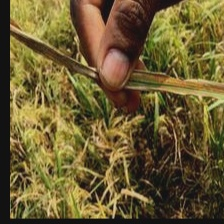Leaf_Blast: (17, 24, 224, 114)
